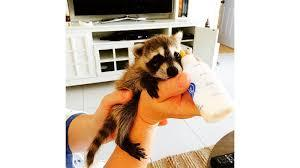raccoon: (76, 22, 197, 168)
